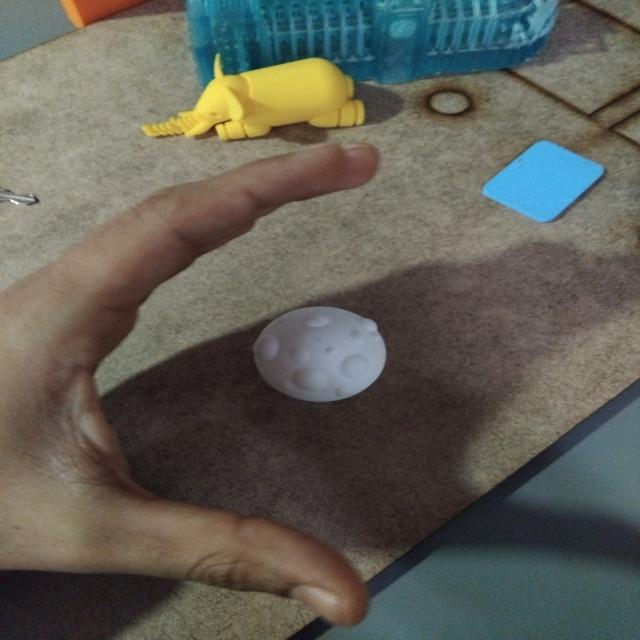Hongo: (251, 298, 393, 411)
